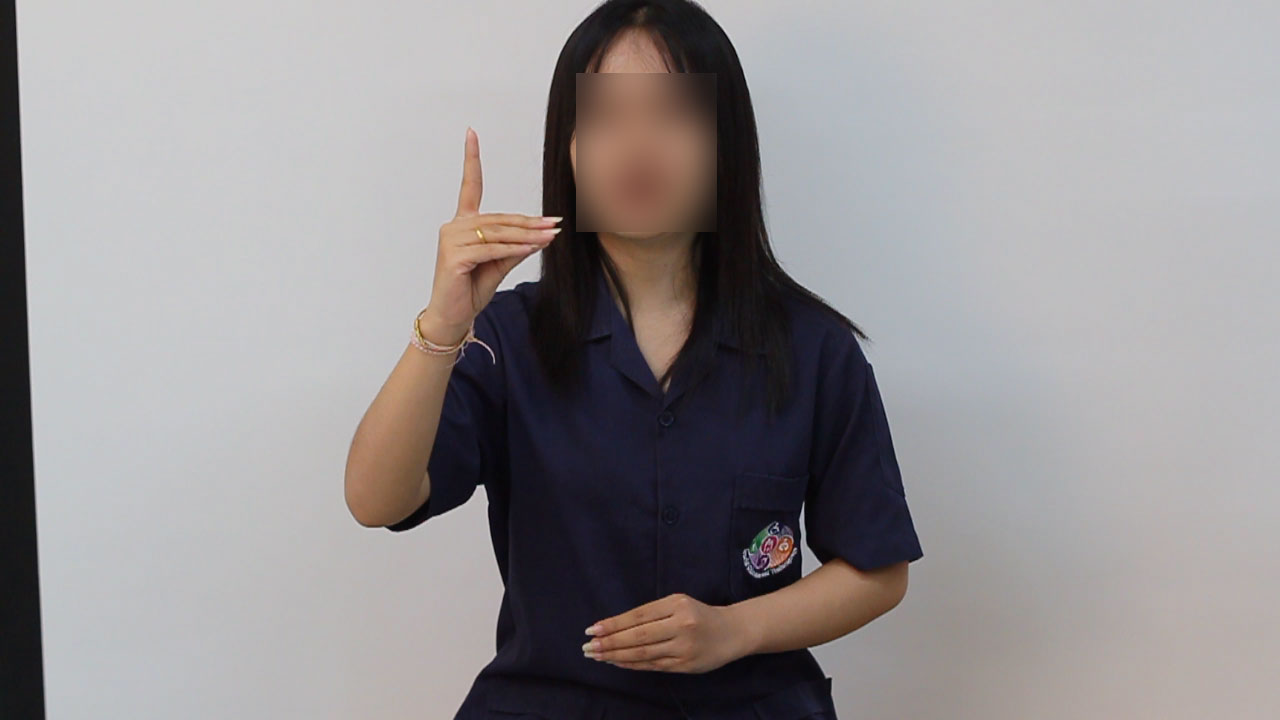dor: (413, 119, 568, 329)
